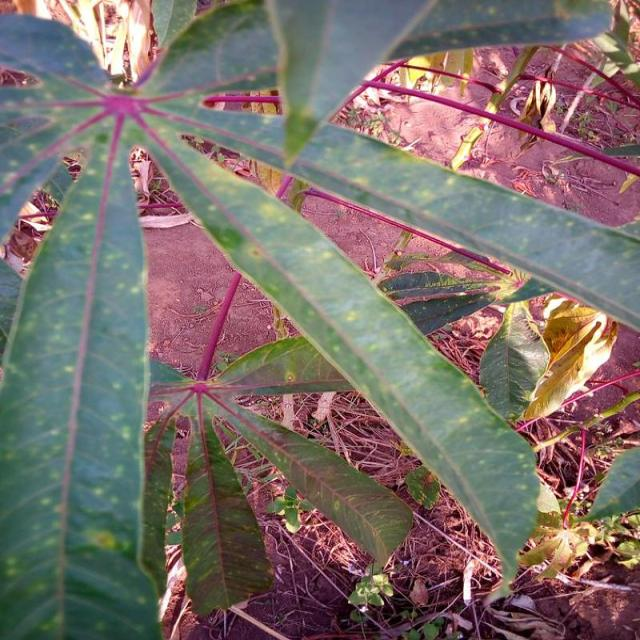cassava leaf: (1, 1, 638, 636), (136, 118, 543, 603), (0, 131, 162, 637)
